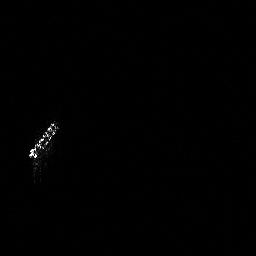ship: (25, 116, 63, 180)
